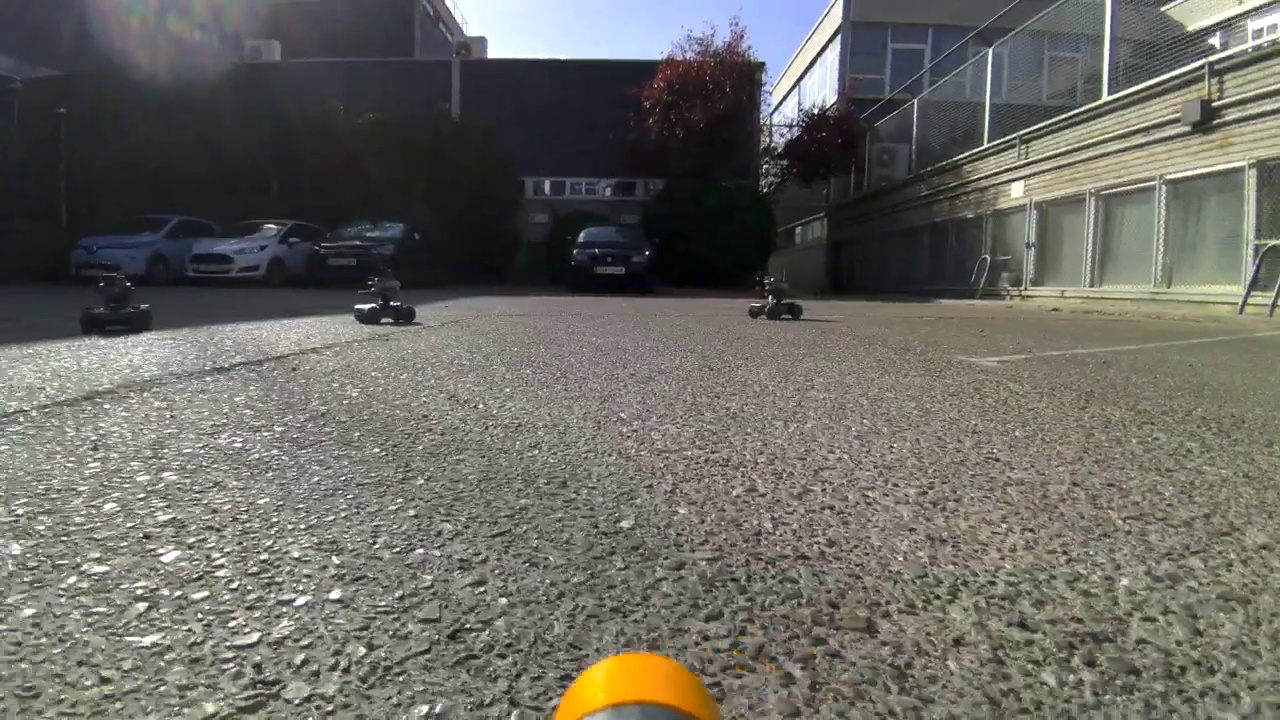robot: (77, 265, 159, 337), (352, 263, 421, 328), (745, 274, 805, 328)
